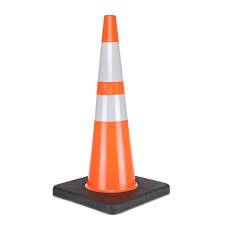cones: (52, 15, 171, 214)
